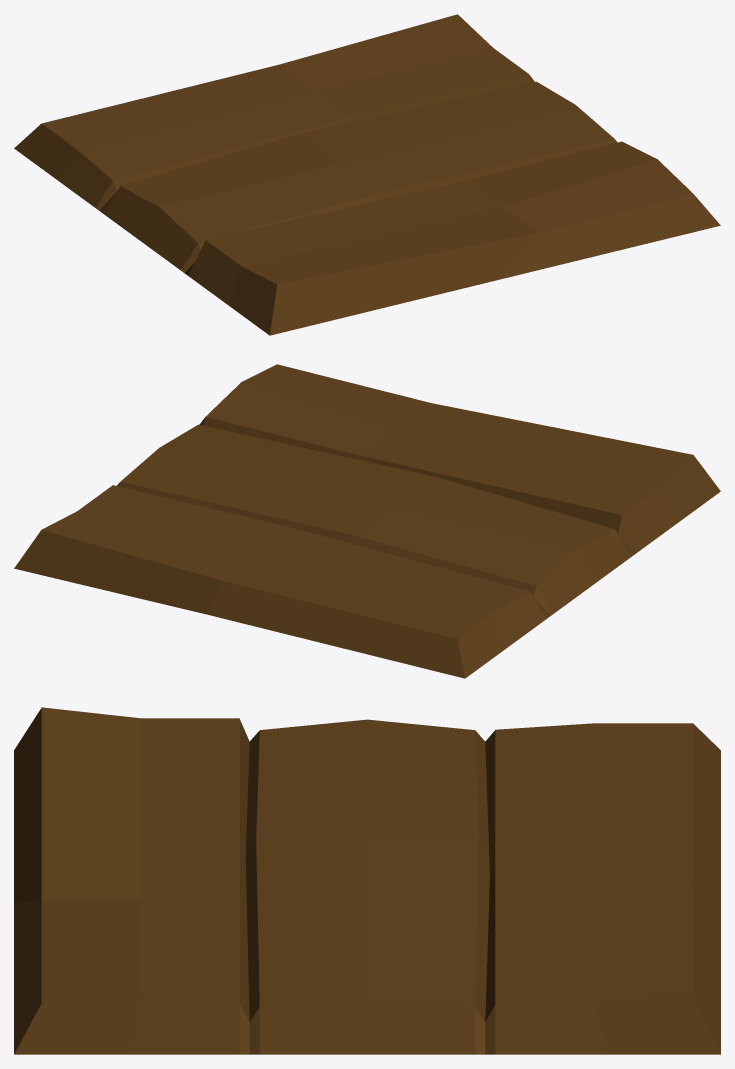
The model's file is Soil.fbx.
3 renders of one model, top to bottom at view 1: azimuth 30°, elevation 25°; view 2: azimuth 150°, elevation 25°; view 3: azimuth 270°, elevation 25°, orthographic. The views are drawn at different scales.
Visible parts, largest first — view 1: Cube.023; view 2: Cube.023; view 3: Cube.023.
Part boxes in pixels (x1,y1,x2,y2): Cube.023: (14,14,720,335); Cube.023: (14,364,720,678); Cube.023: (14,707,720,1054).
Bounding box in the file's own units: 102 × 8.55 × 100.
Materials: 1 (1 with a texture image).
